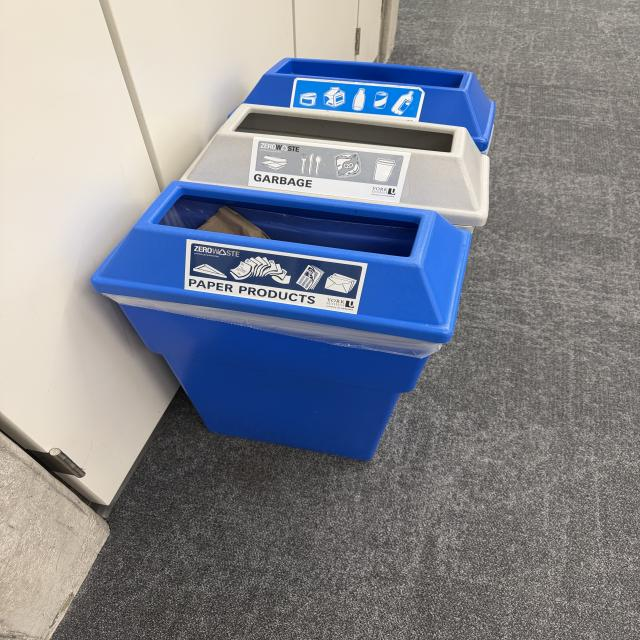Dustbin: (87, 61, 498, 468)
